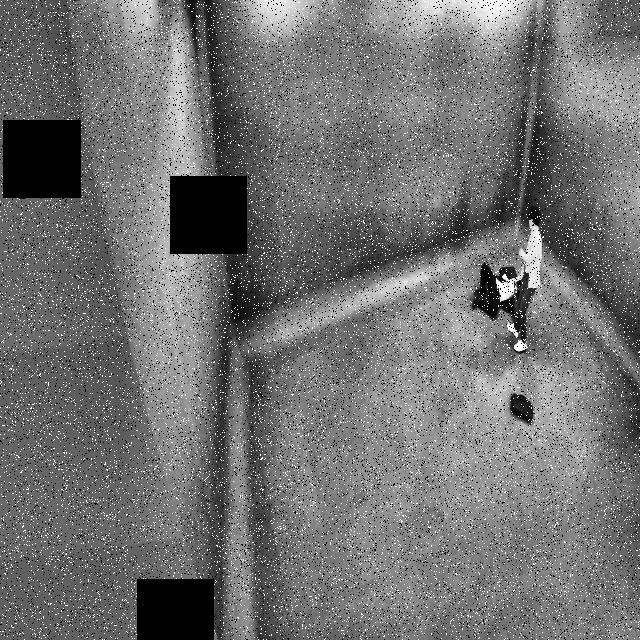assult: (470, 188, 555, 357)
